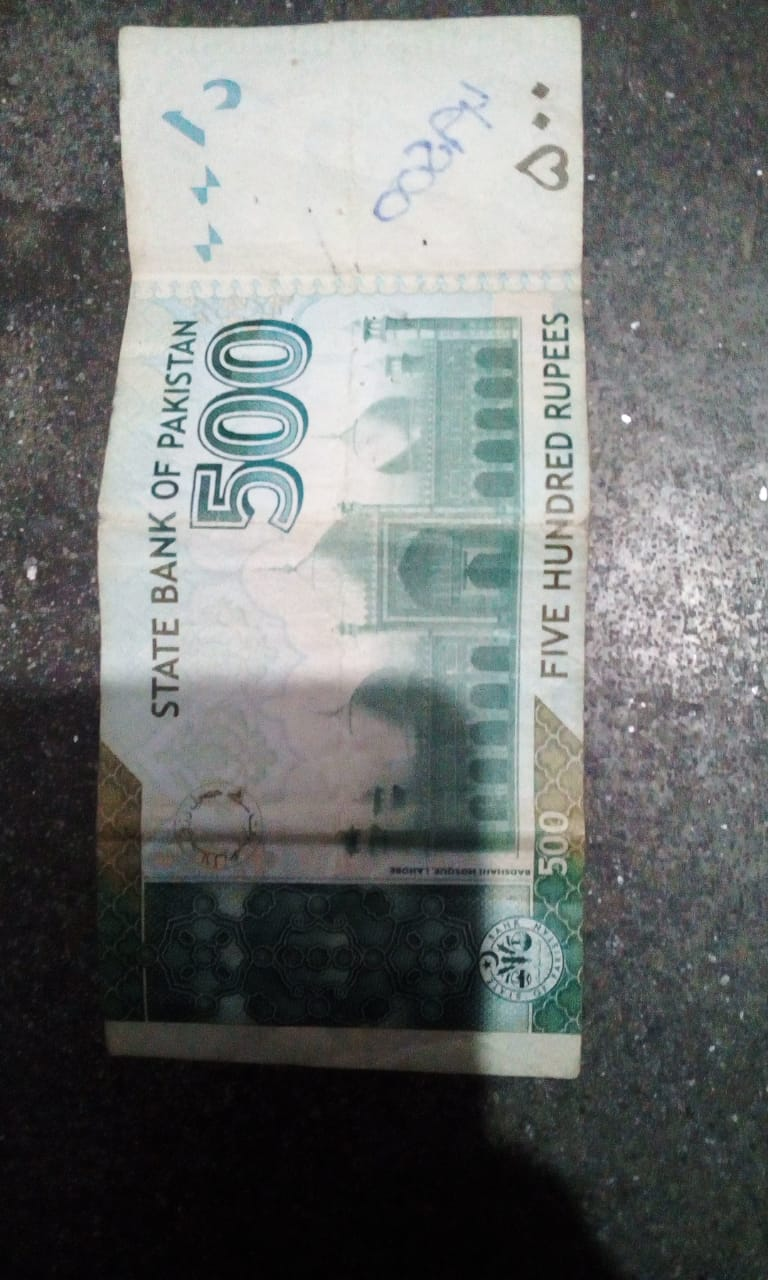500 rupee: (76, 22, 588, 1095)
